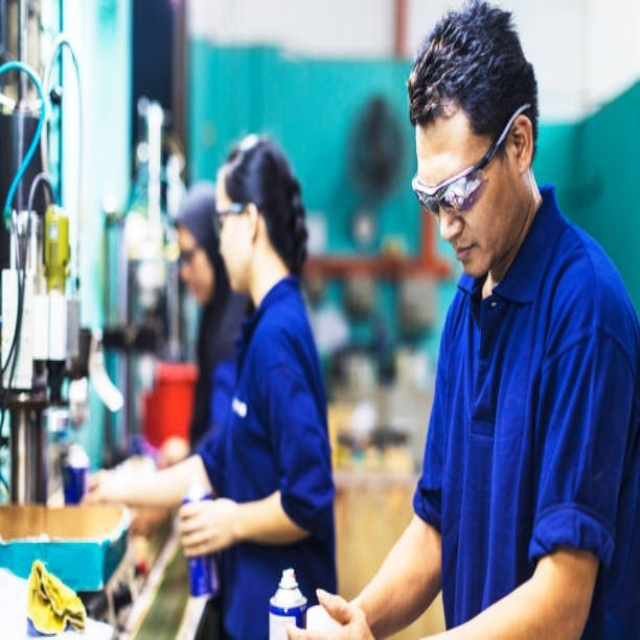Gafas: (412, 104, 529, 216), (214, 203, 248, 233), (177, 243, 200, 266)
Sin_guantes: (278, 582, 371, 637), (176, 489, 238, 555)
Sin_mascara: (447, 235, 490, 278)
